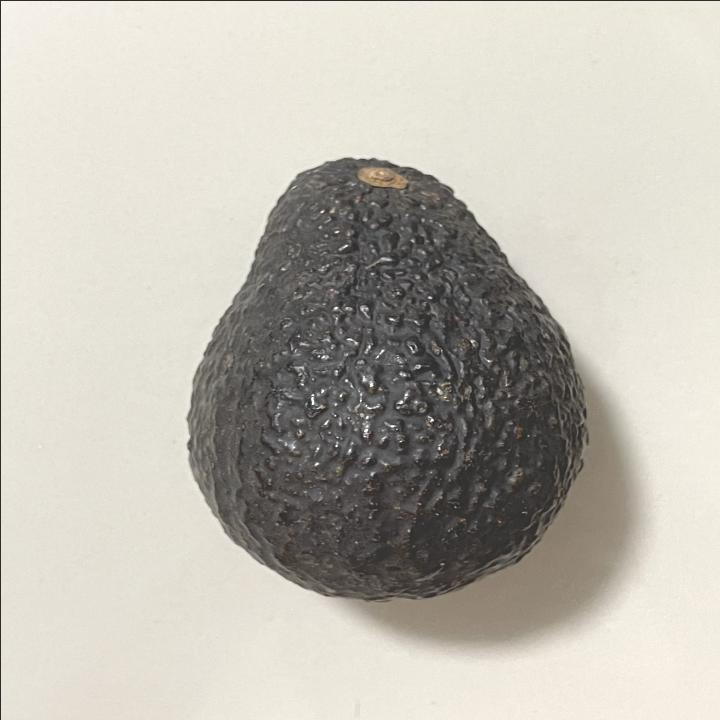Level3: (168, 144, 601, 612)
